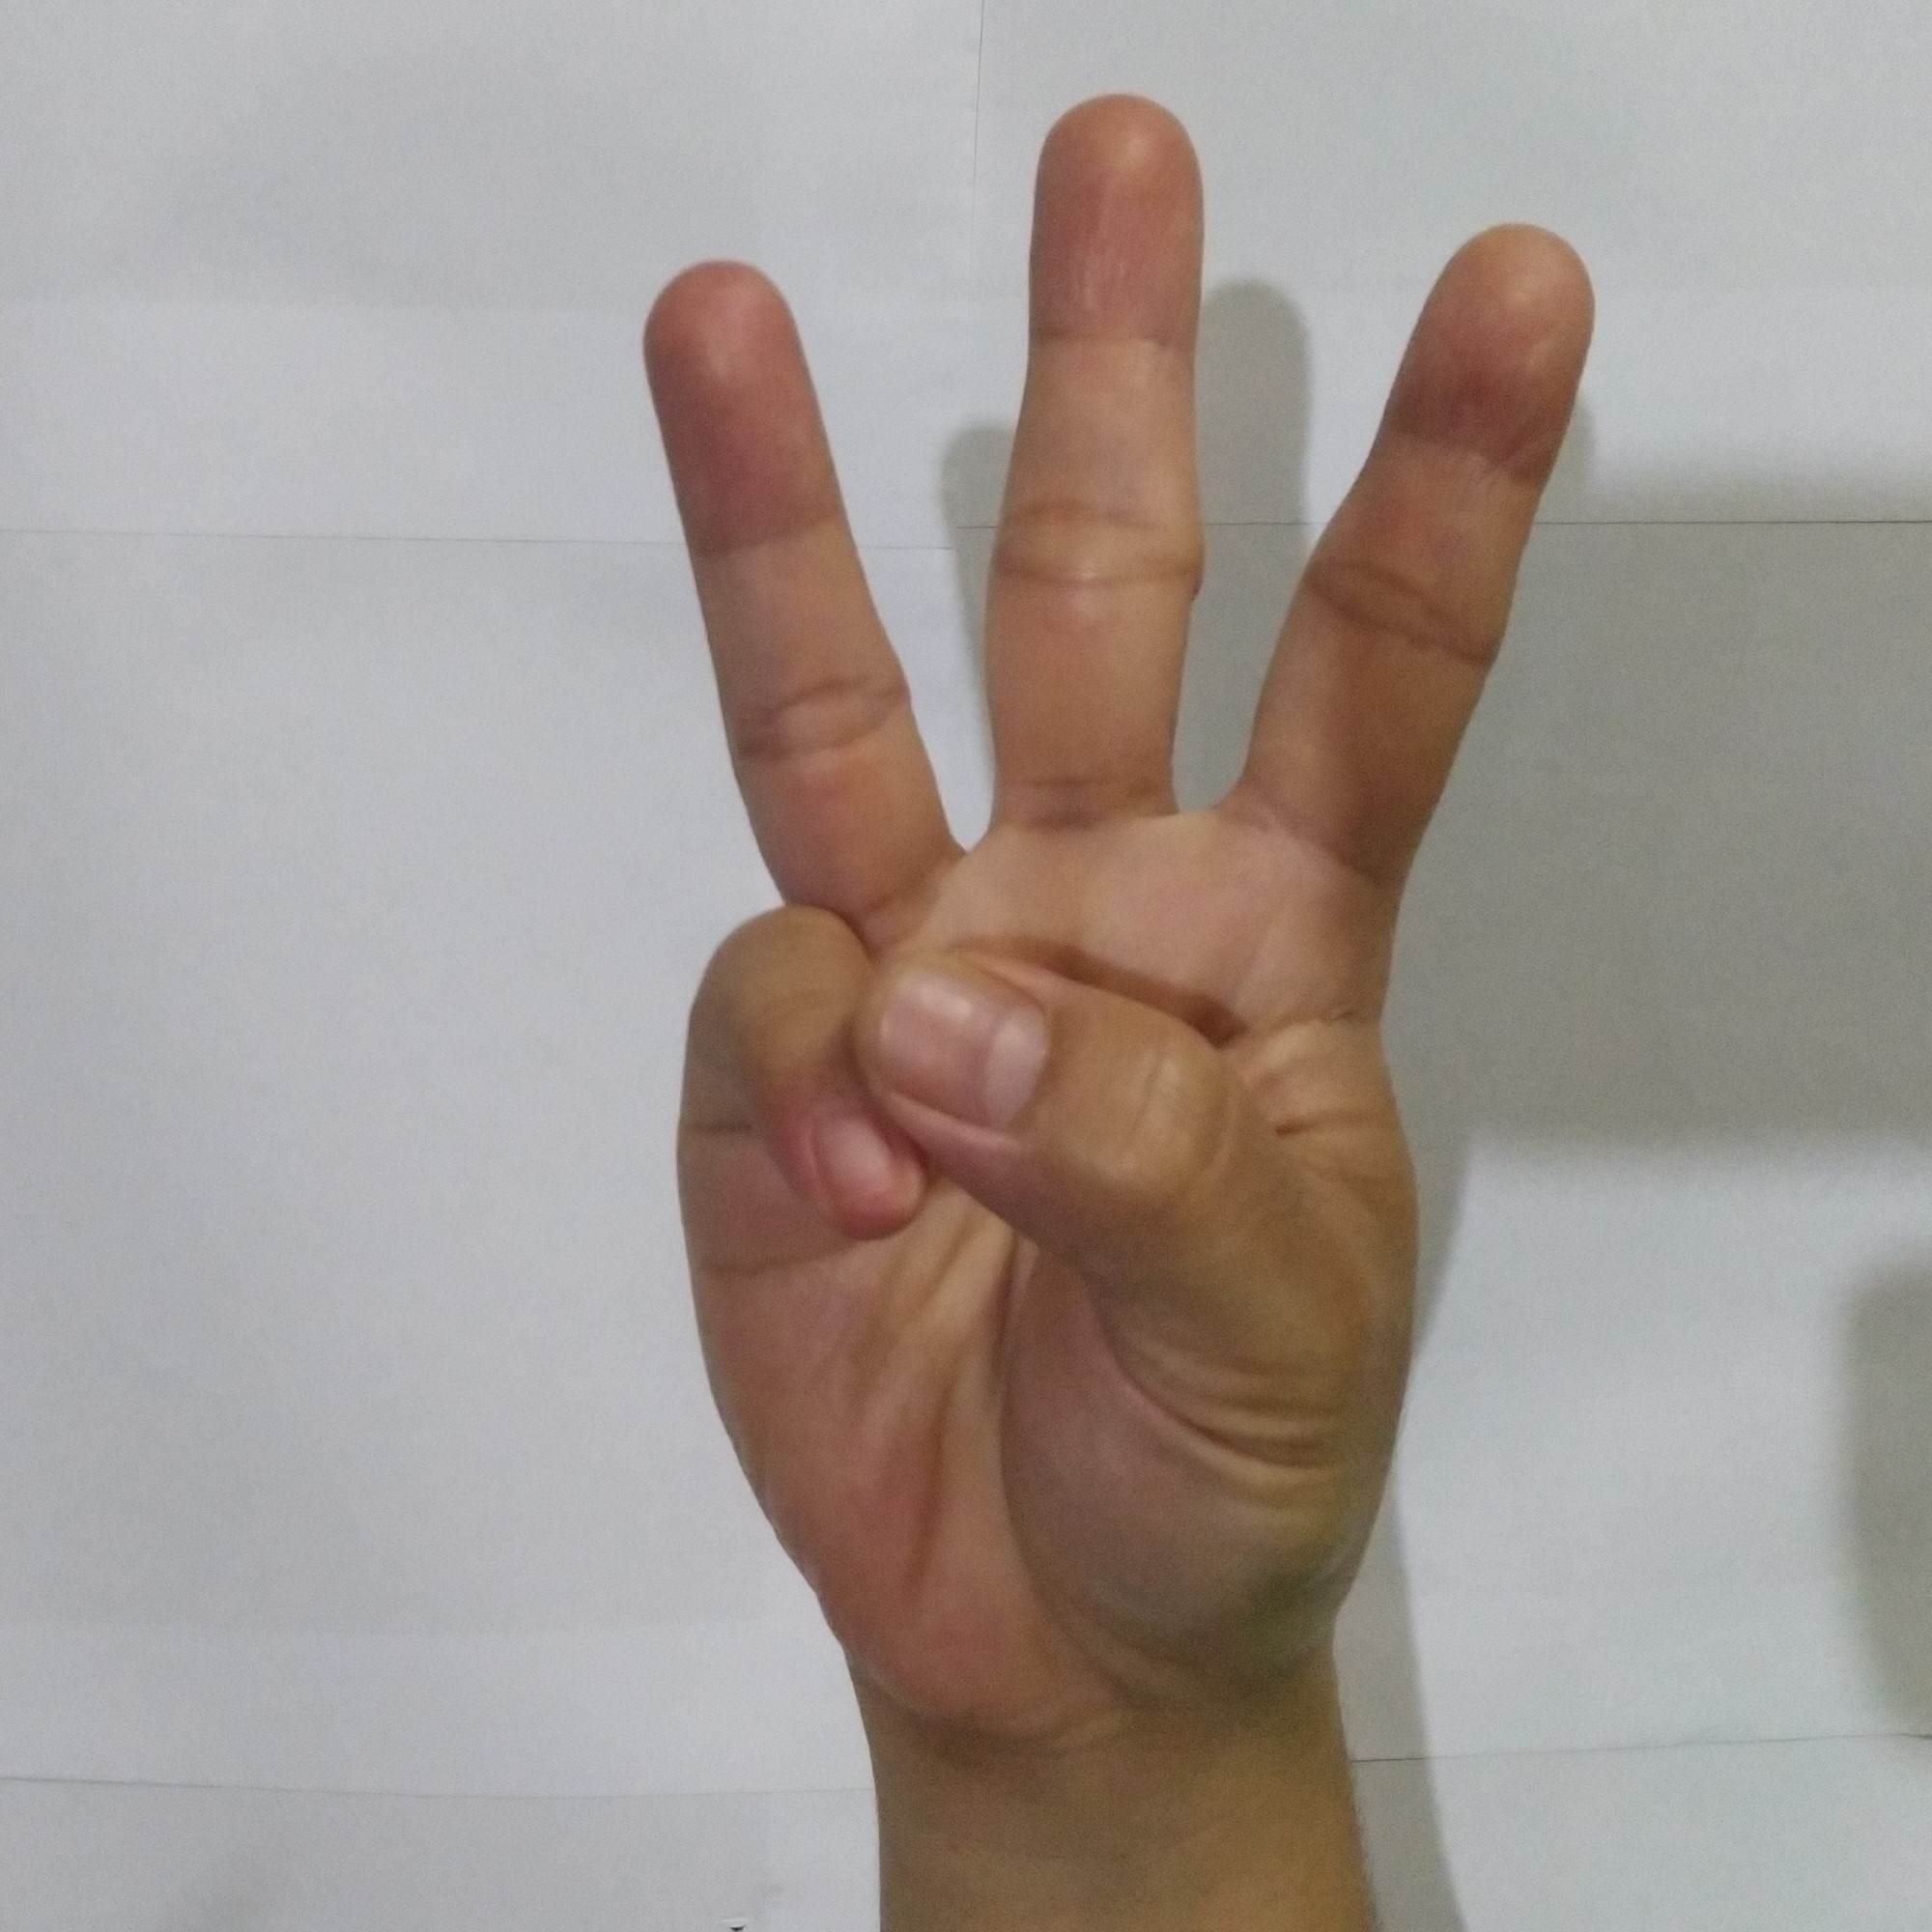W: (605, 71, 1631, 1734)
